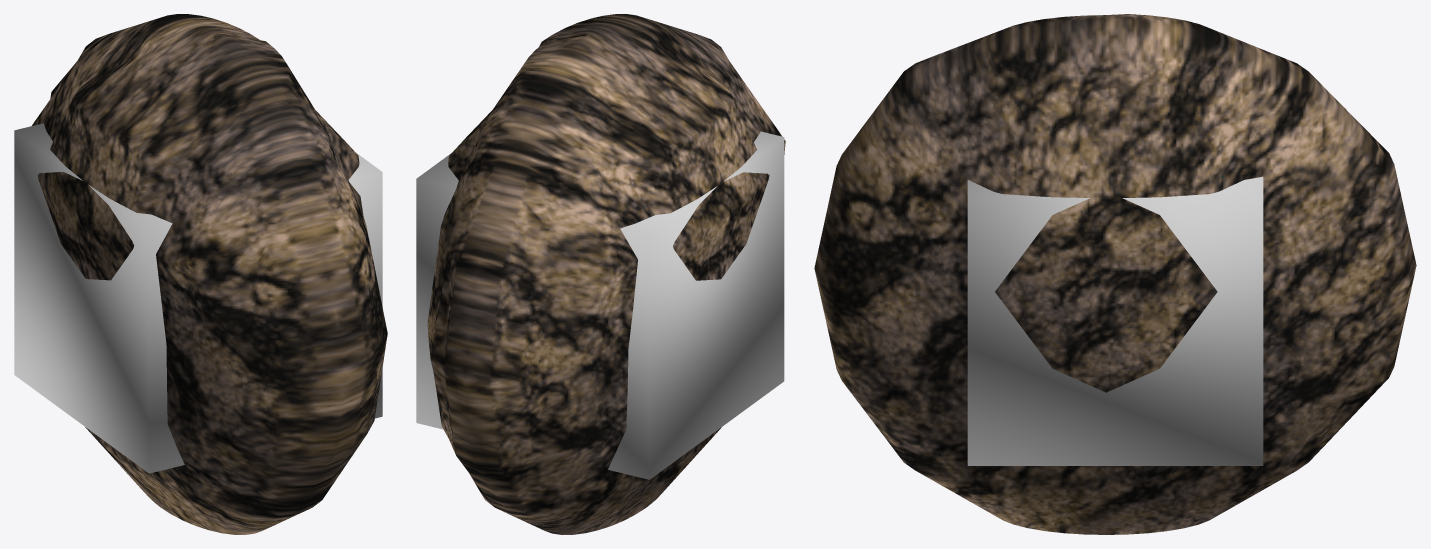
3 renders of one model, left to right at view 1: azimuth 30°, elevation 25°; view 2: azimuth 150°, elevation 25°; view 3: azimuth 270°, elevation 25°, orthographic. The views are drawn at different scales.
Parts seen in each view (by area): view 1: testAsteroid, Cube; view 2: testAsteroid, Cube; view 3: testAsteroid, Cube.
Part boxes in pixels (x1=…): testAsteroid: x1=32, y1=14, x2=387, y2=534; Cube: x1=14, y1=123, x2=382, y2=473; testAsteroid: x1=427, y1=14, x2=785, y2=534; Cube: x1=416, y1=131, x2=784, y2=479; testAsteroid: x1=814, y1=14, x2=1416, y2=534; Cube: x1=967, y1=176, x2=1263, y2=465.
Bounding box in the file's own units: 2.15 × 3.9 × 4.07.
